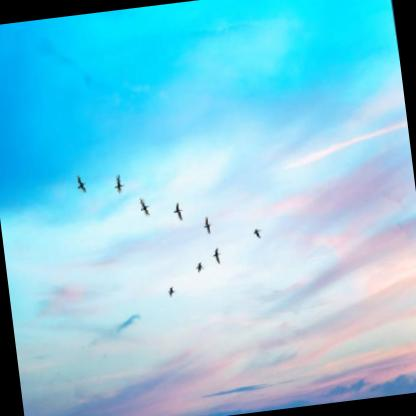bird: (71, 168, 89, 196), (191, 255, 208, 284), (200, 210, 218, 237), (250, 221, 269, 246), (163, 281, 182, 304), (112, 171, 129, 196), (172, 198, 187, 223), (211, 244, 224, 269), (139, 196, 153, 219)
